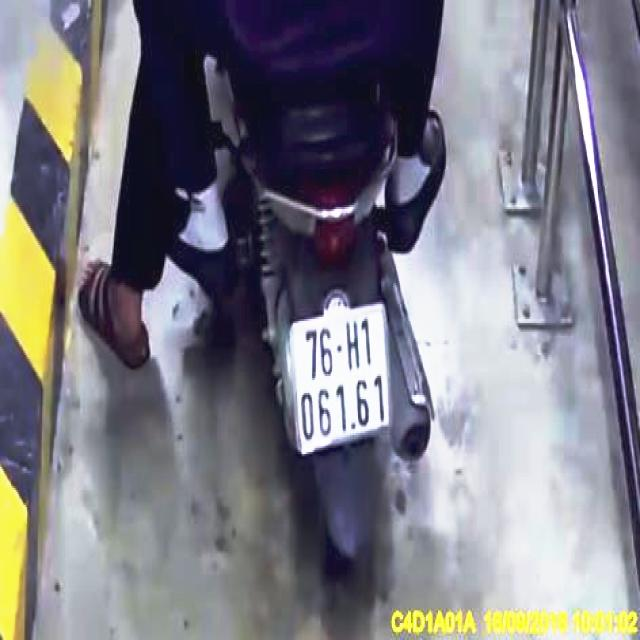license_plate: (292, 307, 391, 458)
